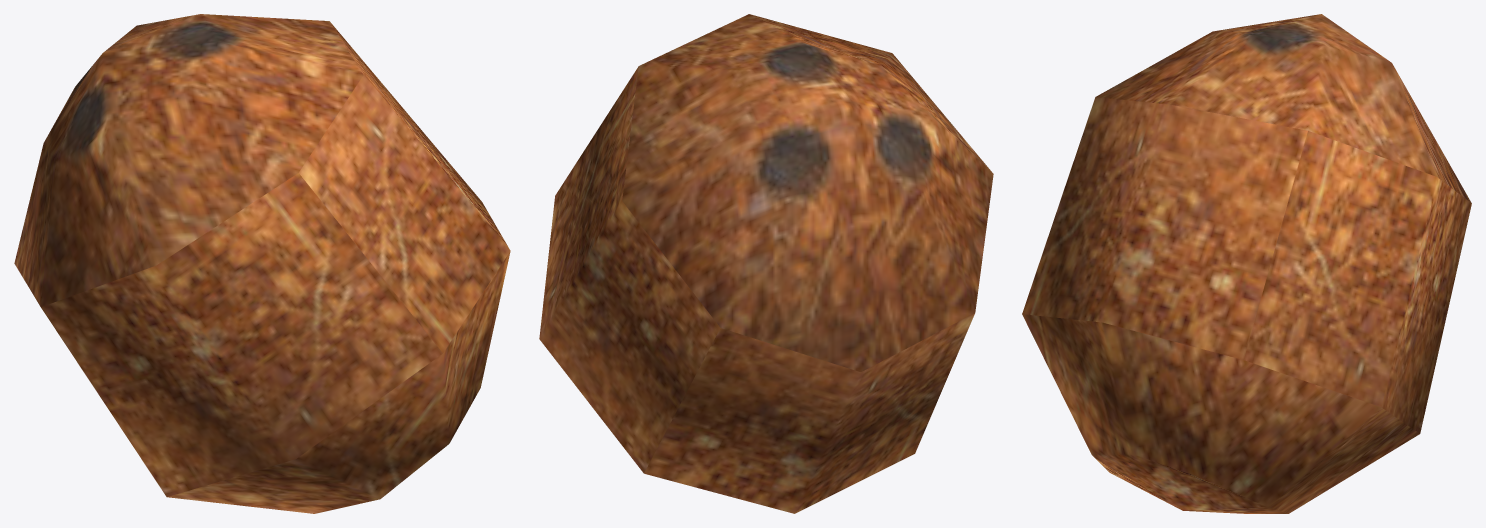
The model's file is coconut.glb.
The picture shows the model from 3 angles, left to right: view 1: azimuth 30°, elevation 25°; view 2: azimuth 150°, elevation 25°; view 3: azimuth 270°, elevation 25°; orthographic projection. The views are drawn at different scales.
Visible parts, largest first — view 1: coconut.jpg__; view 2: coconut.jpg__; view 3: coconut.jpg__.
Boxes of the visible parts, box(x1,y1,x2,y2) form: coconut.jpg__: box(14, 14, 510, 513); coconut.jpg__: box(539, 14, 993, 513); coconut.jpg__: box(1022, 14, 1471, 513).
Bounding box in the file's own units: 0.2336 × 0.2406 × 0.2225.
1 material, 1 textured.
